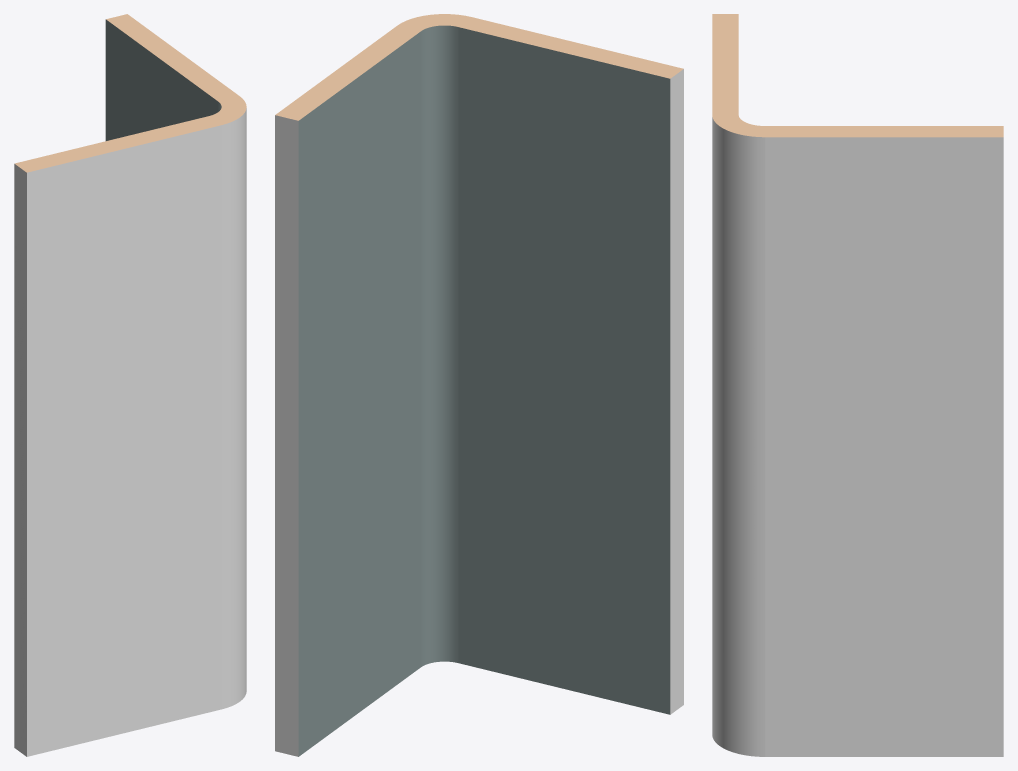
The model's file is wallCornerRond.glb.
3 renders of one model, left to right at view 1: azimuth 30°, elevation 25°; view 2: azimuth 150°, elevation 25°; view 3: azimuth 270°, elevation 25°, orthographic. The views are drawn at different scales.
Visible parts, largest first — view 1: wallCornerRond(Clone); view 2: wallCornerRond(Clone); view 3: wallCornerRond(Clone).
Part boxes in pixels (x1,y1,x2,y2): wallCornerRond(Clone): [14, 14, 246, 756]; wallCornerRond(Clone): [275, 14, 683, 756]; wallCornerRond(Clone): [712, 14, 1003, 756].
Bounding box in the file's own units: 1.12 × 2.62 × 1.12.
3 materials, 3 textured.
